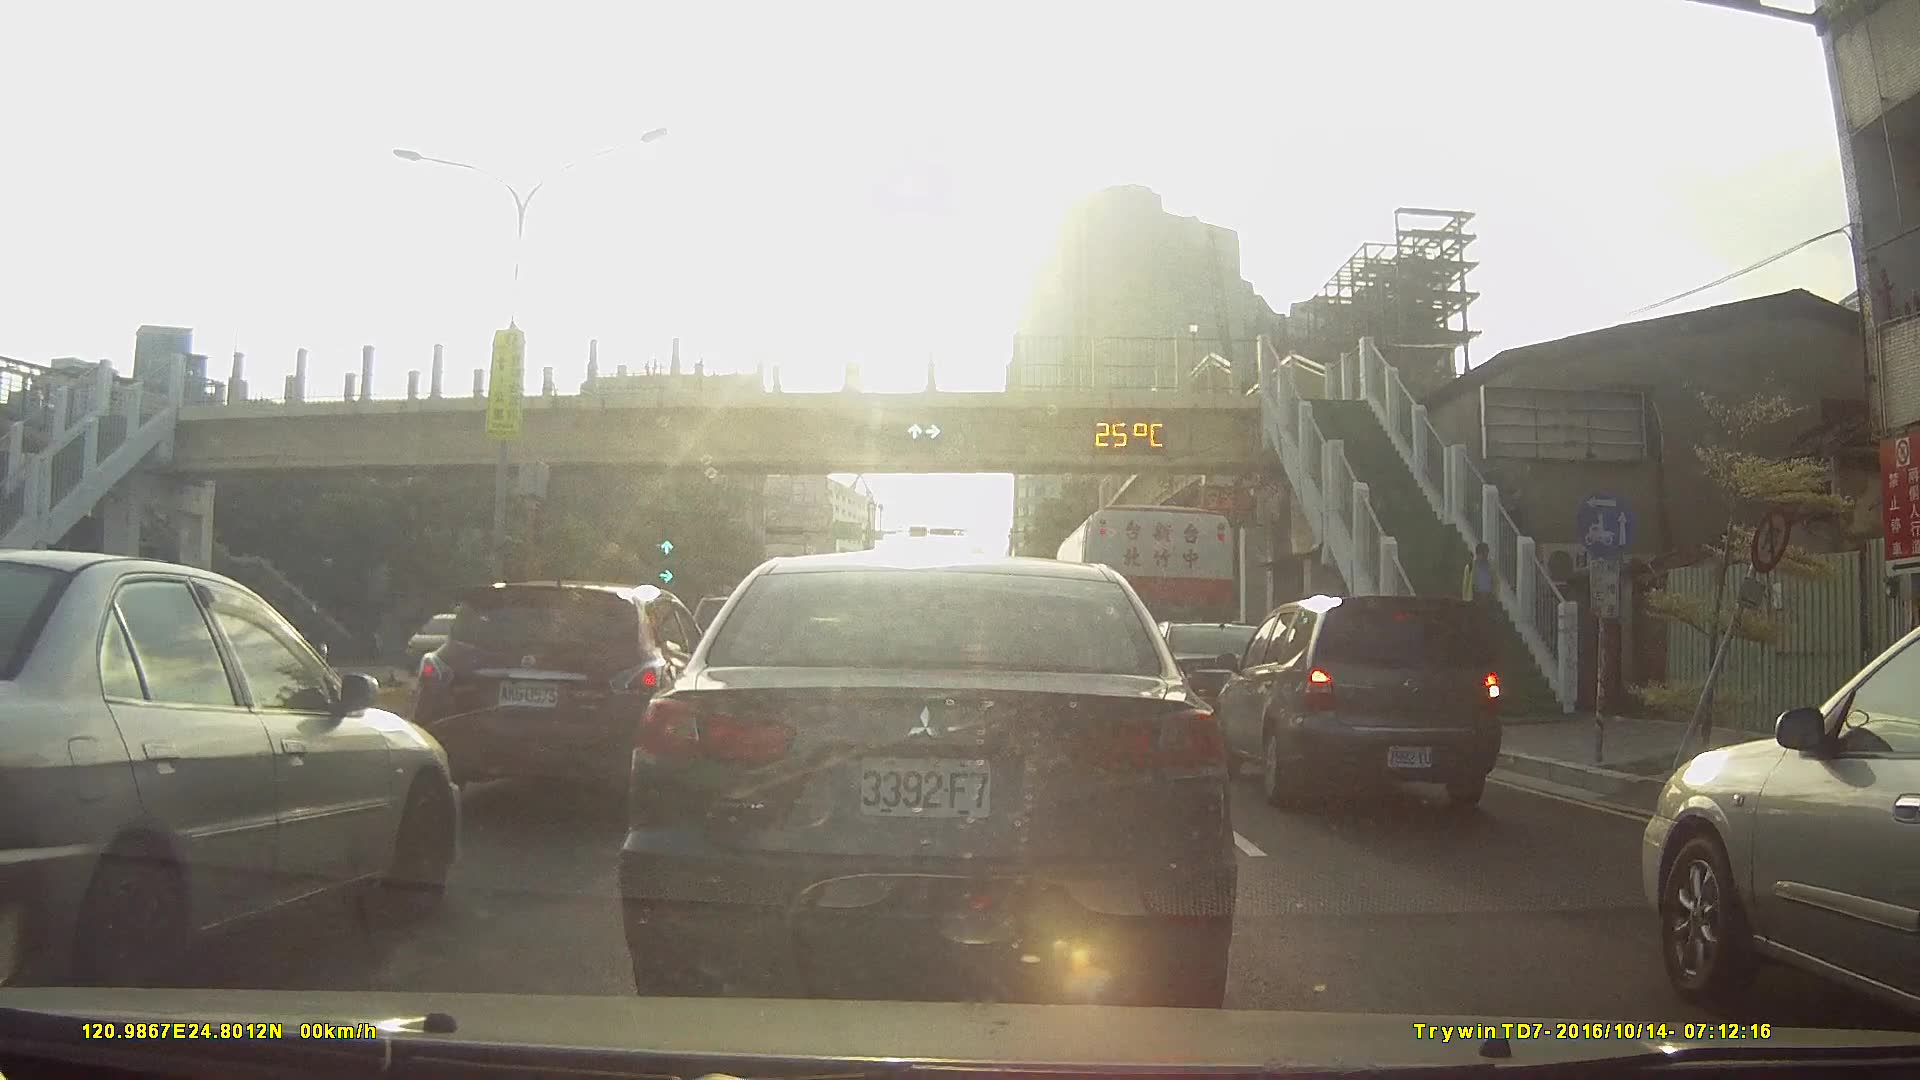pedestrian: (1461, 541, 1509, 647)
rider: (289, 607, 330, 677)
vehicle: (616, 553, 1238, 1002), (0, 546, 464, 997), (1629, 611, 1920, 1019), (421, 578, 723, 798), (1211, 593, 1517, 809), (1101, 615, 1286, 740), (396, 612, 511, 679)
